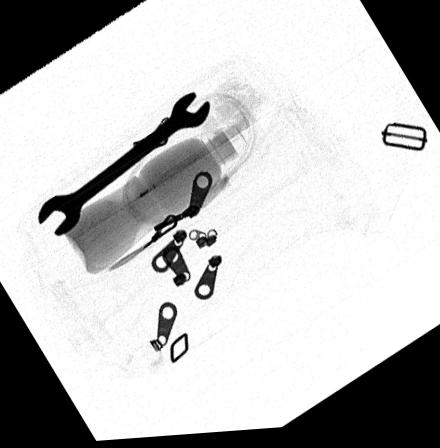Wrench: (36, 94, 210, 236)
